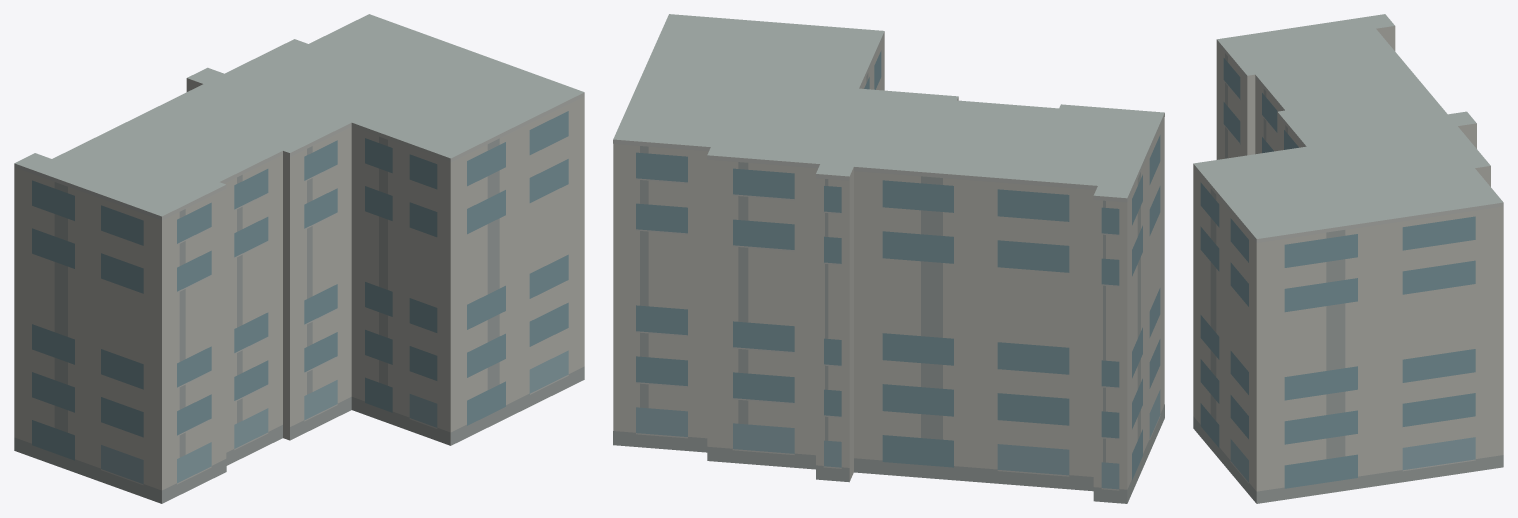
Rendered from survey-upis-32696805.glb.
3 views of the same model, side by side, from view 1: azimuth 30°, elevation 25°; view 2: azimuth 150°, elevation 25°; view 3: azimuth 270°, elevation 25° (orthographic). The views are drawn at different scales.
Visible parts, largest first — view 1: survey-upis-32696805.tmp; view 2: survey-upis-32696805.tmp; view 3: survey-upis-32696805.tmp.
Boxes of the visible parts, x1=… form: survey-upis-32696805.tmp: x1=14, y1=14, x2=584, y2=503; survey-upis-32696805.tmp: x1=613, y1=14, x2=1164, y2=503; survey-upis-32696805.tmp: x1=1193, y1=14, x2=1503, y2=503.
Size of the model in its own units: 31.55 by 17.3 by 18.39.
